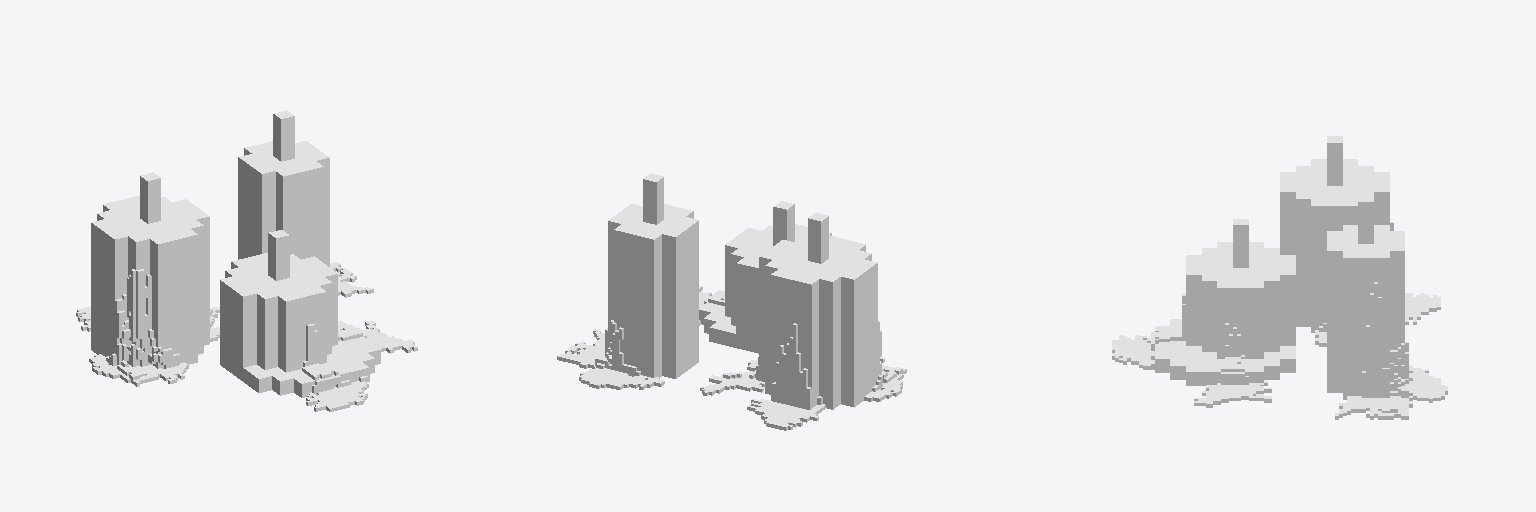
The model's file is candles3.obj.
The picture shows the model from 3 angles: view 1: azimuth 30°, elevation 25°; view 2: azimuth 150°, elevation 25°; view 3: azimuth 270°, elevation 25°; orthographic projection.
Visible parts, largest first — view 1: object 1; view 2: object 1; view 3: object 1.
Boxes of the visible parts, x1,y1,x2,y2 form: object 1: [76, 110, 417, 411]; object 1: [557, 173, 906, 430]; object 1: [1112, 136, 1447, 419].
Size of the model in its own units: 8.6 by 5.2 by 8.6.